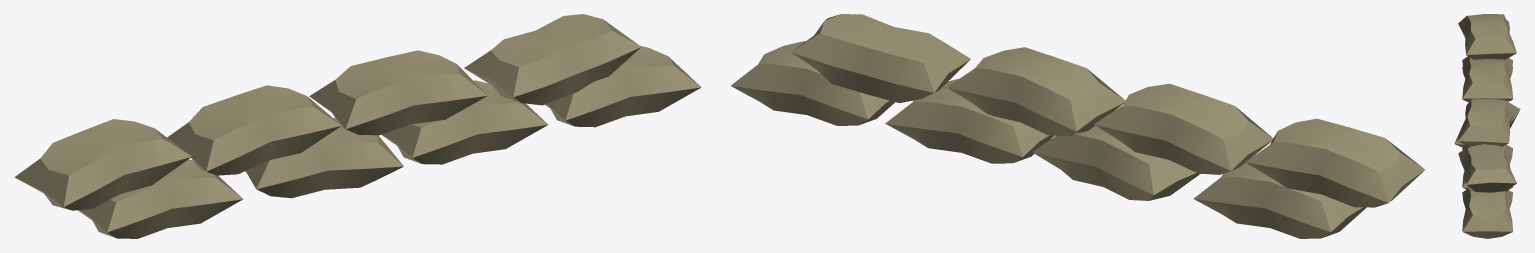
Rendered from Sandbag_Wall1.fbx.
The picture shows the model from 3 angles, left to right: view 1: azimuth 30°, elevation 25°; view 2: azimuth 150°, elevation 25°; view 3: azimuth 270°, elevation 25°; orthographic projection. The views are drawn at different scales.
Parts seen in each view (by area): view 1: Box007, Box006, Box009, Box008, Box005, Box003, Box002, Box004; view 2: Box009, Box008, Box006, Box007, Box003, Box005, Box002, Box004; view 3: Box007, Box004, Box008, Box009, Box006, Box003, Box002, Box005.
Boxes of the visible parts, box(x1,y1,x2,y2) form: Box007: box(309, 50, 487, 135); Box006: box(167, 85, 341, 175); Box009: box(14, 119, 191, 210); Box008: box(464, 14, 640, 105); Box005: box(78, 159, 242, 238); Box003: box(381, 80, 548, 164); Box002: box(245, 117, 403, 198); Box004: box(545, 46, 701, 127); Box009: box(1245, 118, 1425, 207); Box008: box(791, 14, 970, 102); Box006: box(1094, 83, 1273, 174); Box007: box(947, 47, 1125, 136); Box003: box(885, 79, 1054, 163); Box005: box(1193, 162, 1366, 238); Box002: box(1032, 125, 1200, 200); Box004: box(731, 41, 894, 125); Box007: box(1458, 98, 1516, 146); Box004: box(1462, 188, 1513, 238); Box008: box(1458, 144, 1516, 192); Box009: box(1458, 14, 1516, 59); Box006: box(1462, 58, 1513, 102); Box003: box(1462, 144, 1513, 189); Box002: box(1454, 107, 1520, 147); Box005: box(1462, 56, 1513, 101).
Size of the model in its own units: 220 by 30.82 by 33.03.
